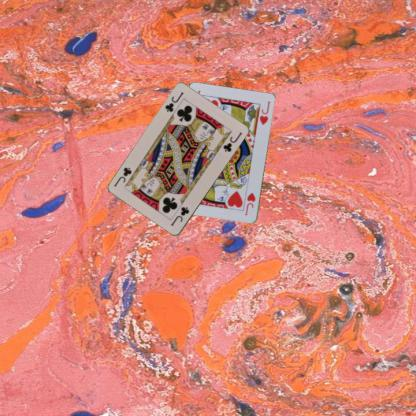Jc: (162, 89, 185, 114), (168, 204, 191, 228)
Jh: (242, 190, 257, 217)
